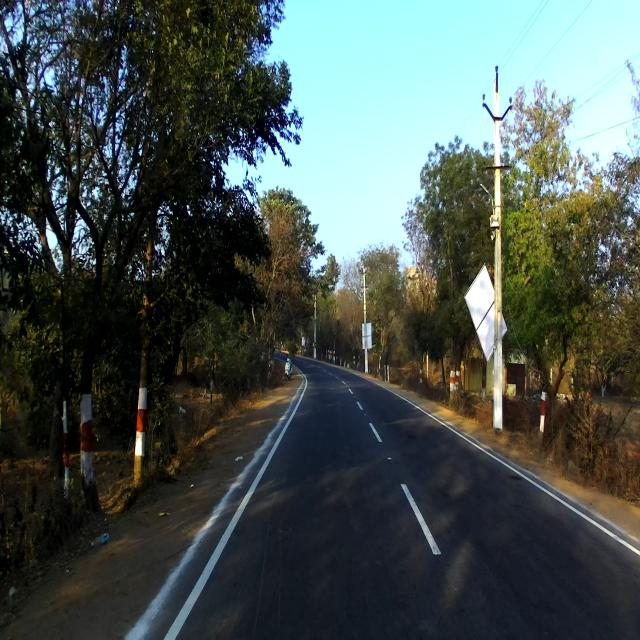electric pole ahead at: (476, 52, 529, 439)
